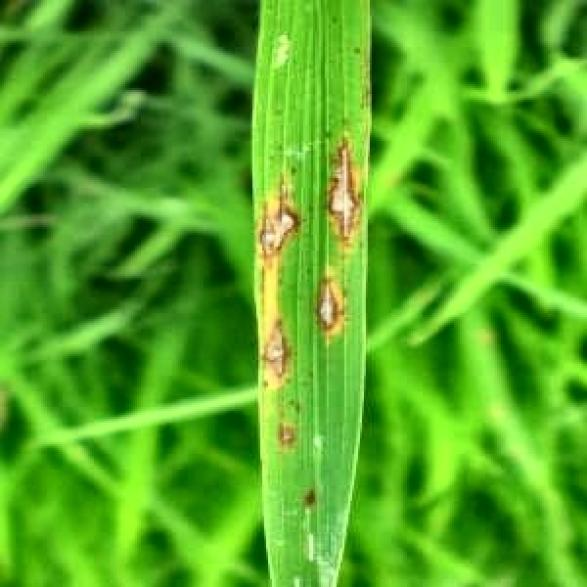Leaf_smut: (250, 125, 366, 519)
